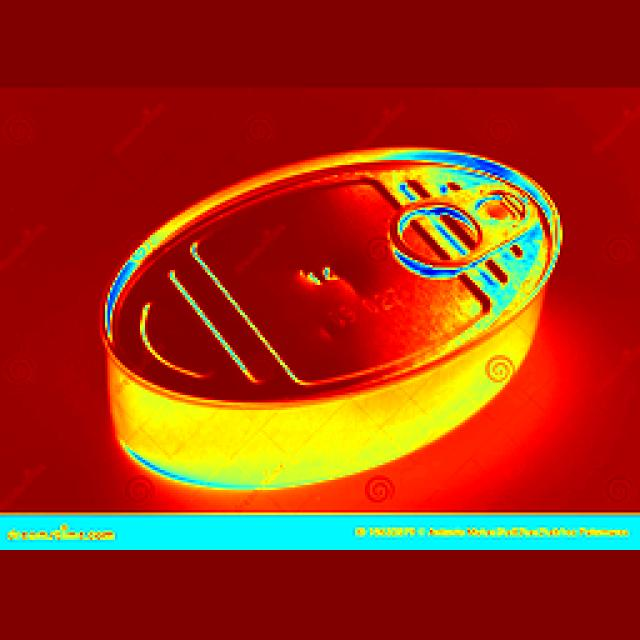Aluminium Food Cans: (104, 115, 544, 478)
